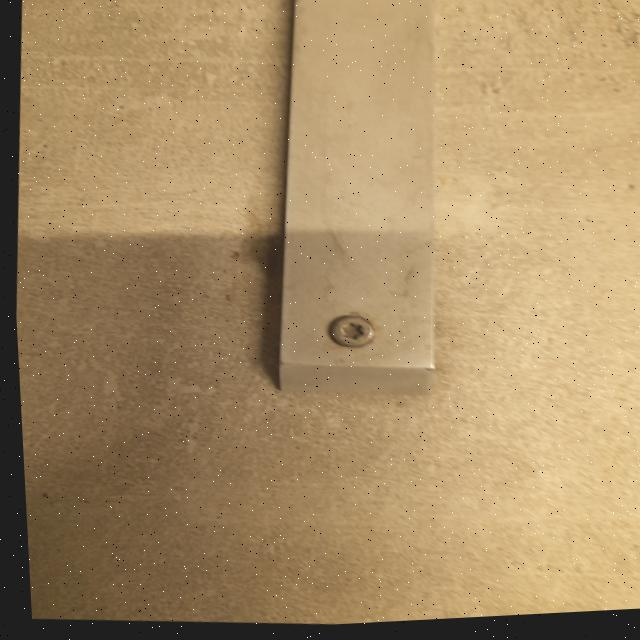Torx: (323, 309, 382, 351)
